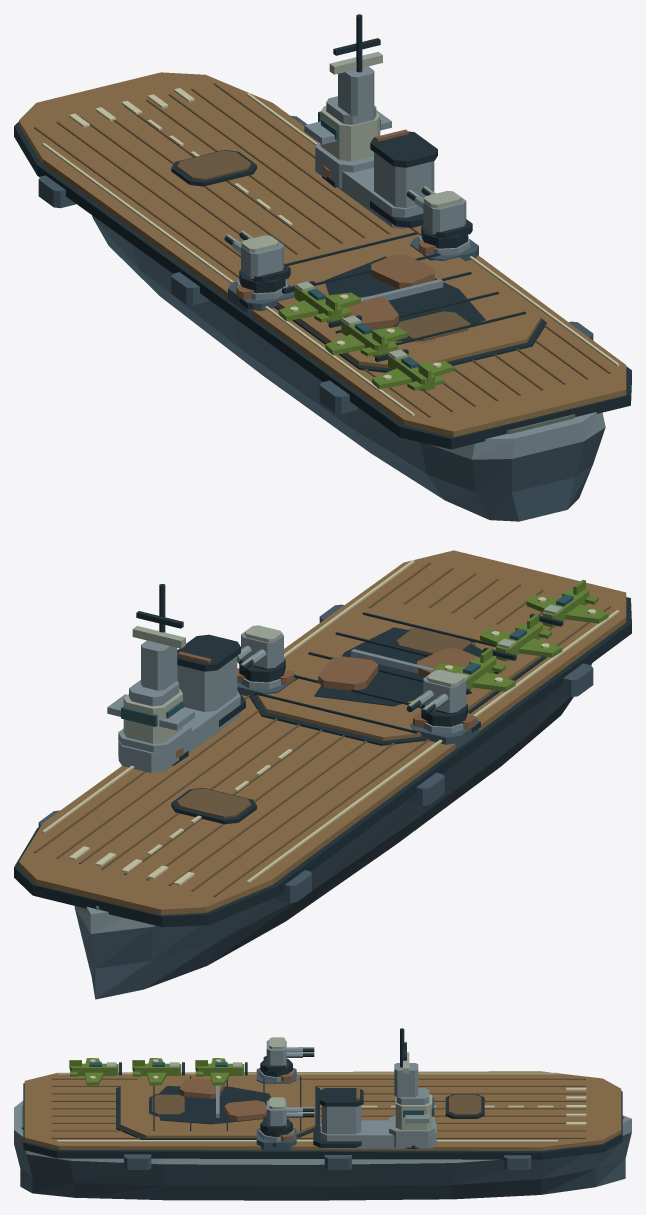
The model's file is historic-bogue.glb.
3 views of the same model, one above another, from view 1: azimuth 30°, elevation 25°; view 2: azimuth 150°, elevation 25°; view 3: azimuth 270°, elevation 25° (orthographic). The views are drawn at different scales.
Parts seen in each view (by area): view 1: historic-bogue-historic-bogue-geometry, historic-bogue-part_flight-deck.026-geometry, historic-bogue-part_bridge.084-geometry, historic-bogue-ruin_flight-deck.025-geometry, historic-bogue-historic_funnel_0.082-geometry, historic-bogue-turret_aa_aa-starboard.084-geometry, historic-bogue-turret_aa_aa-port.088-geometry, historic-bogue-aircraft_lift_0.026-geometry, historic-bogue-parked_aircraft_0.026-geometry, historic-bogue-parked_aircraft_2.026-geometry, historic-bogue-parked_aircraft_1.026-geometry, historic-bogue-aircraft_lift_1.025-geometry (+2 smaller); view 2: historic-bogue-historic-bogue-geometry, historic-bogue-part_flight-deck.026-geometry, historic-bogue-part_bridge.084-geometry, historic-bogue-ruin_flight-deck.025-geometry, historic-bogue-historic_funnel_0.082-geometry, historic-bogue-turret_aa_aa-port.088-geometry, historic-bogue-turret_aa_aa-starboard.084-geometry, historic-bogue-aircraft_lift_0.026-geometry, historic-bogue-parked_aircraft_1.026-geometry, historic-bogue-parked_aircraft_0.026-geometry, historic-bogue-parked_aircraft_2.026-geometry, historic-bogue-aircraft_lift_1.025-geometry (+2 smaller); view 3: historic-bogue-historic-bogue-geometry, historic-bogue-part_flight-deck.026-geometry, historic-bogue-historic_funnel_0.082-geometry, historic-bogue-ruin_flight-deck.025-geometry, historic-bogue-part_bridge.084-geometry, historic-bogue-turret_aa_aa-starboard.084-geometry, historic-bogue-turret_aa_aa-port.088-geometry, historic-bogue-parked_aircraft_1.026-geometry, historic-bogue-parked_aircraft_2.026-geometry, historic-bogue-parked_aircraft_0.026-geometry, historic-bogue-aircraft_lift_0.026-geometry, historic-bogue-aircraft_lift_1.025-geometry (+2 smaller).
Part boxes in pixels (bbox=[...]): historic-bogue-historic-bogue-geometry: bbox=[14, 72, 631, 521]; historic-bogue-part_flight-deck.026-geometry: bbox=[274, 232, 546, 372]; historic-bogue-part_bridge.084-geometry: bbox=[304, 14, 391, 188]; historic-bogue-ruin_flight-deck.025-geometry: bbox=[325, 254, 485, 341]; historic-bogue-historic_funnel_0.082-geometry: bbox=[315, 129, 437, 228]; historic-bogue-turret_aa_aa-starboard.084-geometry: bbox=[406, 186, 472, 248]; historic-bogue-turret_aa_aa-port.088-geometry: bbox=[224, 230, 290, 293]; historic-bogue-aircraft_lift_0.026-geometry: bbox=[171, 150, 256, 186]; historic-bogue-parked_aircraft_0.026-geometry: bbox=[372, 349, 453, 391]; historic-bogue-parked_aircraft_2.026-geometry: bbox=[278, 281, 360, 322]; historic-bogue-parked_aircraft_1.026-geometry: bbox=[325, 315, 407, 356]; historic-bogue-aircraft_lift_1.025-geometry: bbox=[397, 311, 474, 343]; historic-bogue-historic-bogue-geometry: bbox=[14, 550, 631, 999]; historic-bogue-part_flight-deck.026-geometry: bbox=[249, 603, 546, 745]; historic-bogue-part_bridge.084-geometry: bbox=[107, 584, 194, 768]; historic-bogue-ruin_flight-deck.025-geometry: bbox=[314, 627, 483, 706]; historic-bogue-historic_funnel_0.082-geometry: bbox=[118, 634, 245, 772]; historic-bogue-turret_aa_aa-port.088-geometry: bbox=[406, 669, 467, 726]; historic-bogue-turret_aa_aa-starboard.084-geometry: bbox=[237, 625, 285, 682]; historic-bogue-aircraft_lift_0.026-geometry: bbox=[171, 787, 256, 824]; historic-bogue-parked_aircraft_1.026-geometry: bbox=[480, 614, 562, 661]; historic-bogue-parked_aircraft_0.026-geometry: bbox=[526, 580, 608, 627]; historic-bogue-parked_aircraft_2.026-geometry: bbox=[433, 648, 515, 694]; historic-bogue-aircraft_lift_1.025-geometry: bbox=[396, 628, 475, 654]; historic-bogue-historic-bogue-geometry: bbox=[14, 1071, 631, 1200]; historic-bogue-part_flight-deck.026-geometry: bbox=[116, 1075, 319, 1139]; historic-bogue-historic_funnel_0.082-geometry: bbox=[313, 1088, 436, 1148]; historic-bogue-ruin_flight-deck.025-geometry: bbox=[158, 1078, 271, 1124]; historic-bogue-part_bridge.084-geometry: bbox=[389, 1028, 434, 1147]; historic-bogue-turret_aa_aa-starboard.084-geometry: bbox=[260, 1097, 314, 1137]; historic-bogue-turret_aa_aa-port.088-geometry: bbox=[260, 1037, 314, 1077]; historic-bogue-parked_aircraft_1.026-geometry: bbox=[132, 1058, 184, 1085]; historic-bogue-parked_aircraft_2.026-geometry: bbox=[195, 1058, 247, 1085]; historic-bogue-parked_aircraft_0.026-geometry: bbox=[69, 1058, 121, 1085]; historic-bogue-aircraft_lift_0.026-geometry: bbox=[445, 1094, 484, 1118]; historic-bogue-aircraft_lift_1.025-geometry: bbox=[149, 1094, 184, 1116].
Size of the model in its own units: 1.95 by 1.92 by 5.89.
